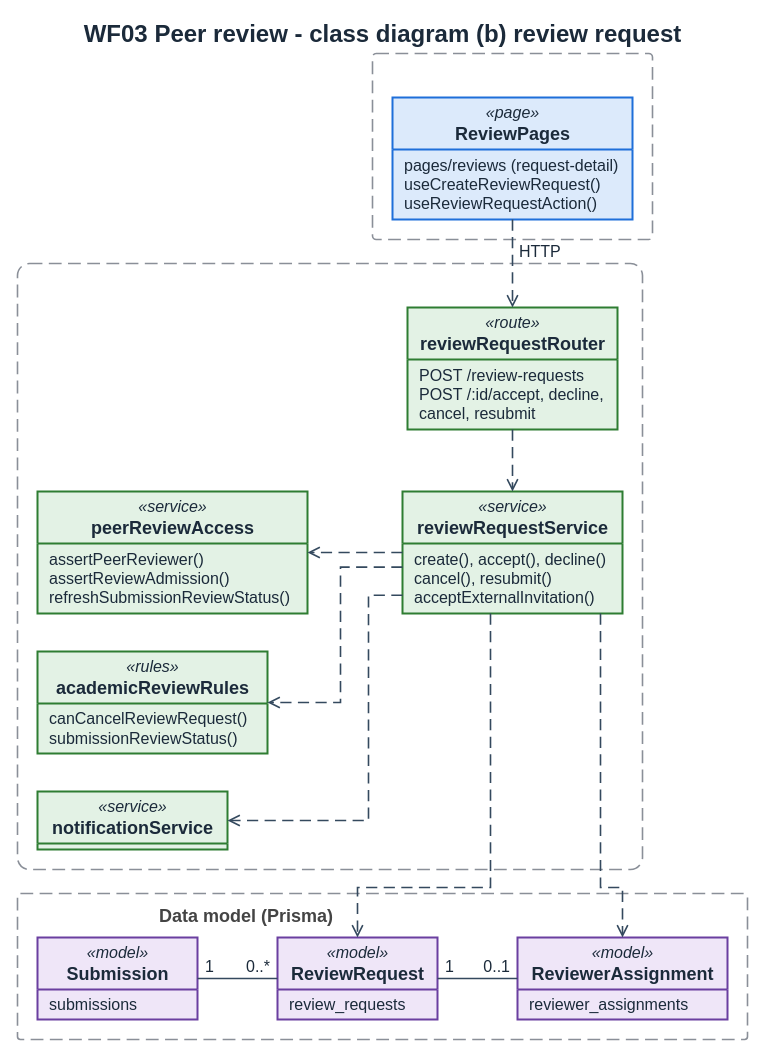
Image size: 766x1057. Some labels were removed from this diagram. The shapes that lost their labels are listed below. From the top down, each one's box as (x1, y1, x2, y2) in pixels, then its label:
(371, 52, 653, 240): Web
(16, 262, 643, 870): Backend
